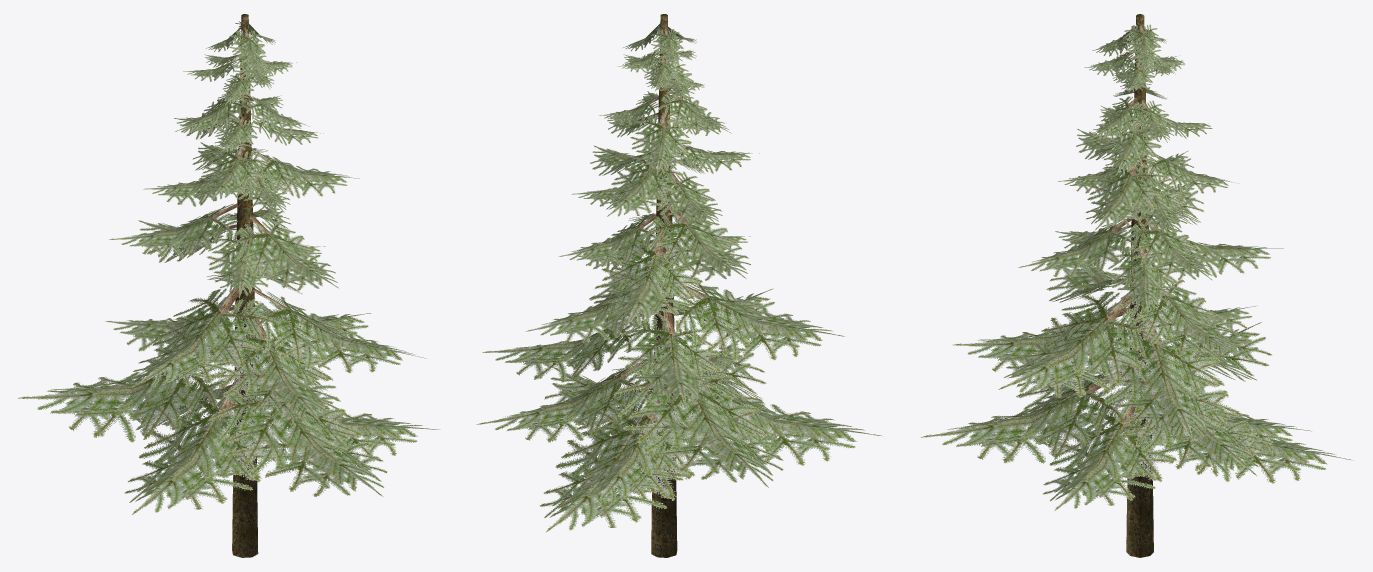
File: TreeA.fbx
3 renders of one model, left to right at view 1: azimuth 30°, elevation 25°; view 2: azimuth 150°, elevation 25°; view 3: azimuth 270°, elevation 25°, orthographic.
Visible parts, largest first — view 1: LeafsBack, Trunk; view 2: LeafsBack, Trunk; view 3: LeafsBack, Trunk.
Boxes of the visible parts, x1,y1,x2,y2 form: LeafsBack: (18, 21, 440, 514); Trunk: (232, 14, 258, 557); LeafsBack: (476, 23, 883, 532); Trunk: (651, 14, 677, 557); LeafsBack: (920, 24, 1352, 510); Trunk: (1126, 14, 1153, 557).
Size of the model in its own units: 2935 by 4276 by 3196.
